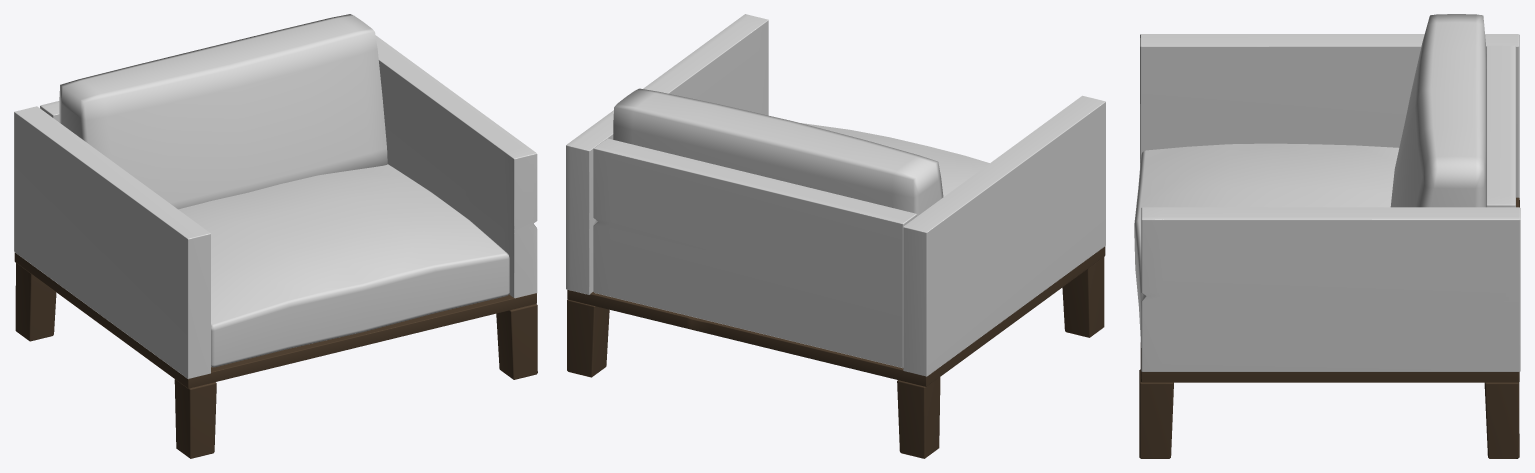
File: couch_small.gltf
3 views of the same model, side by side, from view 1: azimuth 30°, elevation 25°; view 2: azimuth 150°, elevation 25°; view 3: azimuth 270°, elevation 25° (orthographic). The views are drawn at different scales.
Visible parts, largest first — view 1: Couch_smol; view 2: Couch_smol; view 3: Couch_smol.
Boxes of the visible parts, <box> form: Couch_smol: <box>14,14,537,458</box>; Couch_smol: <box>566,14,1105,458</box>; Couch_smol: <box>1134,14,1520,458</box>.
Size of the model in its own units: 1.68 by 1.17 by 1.48.
